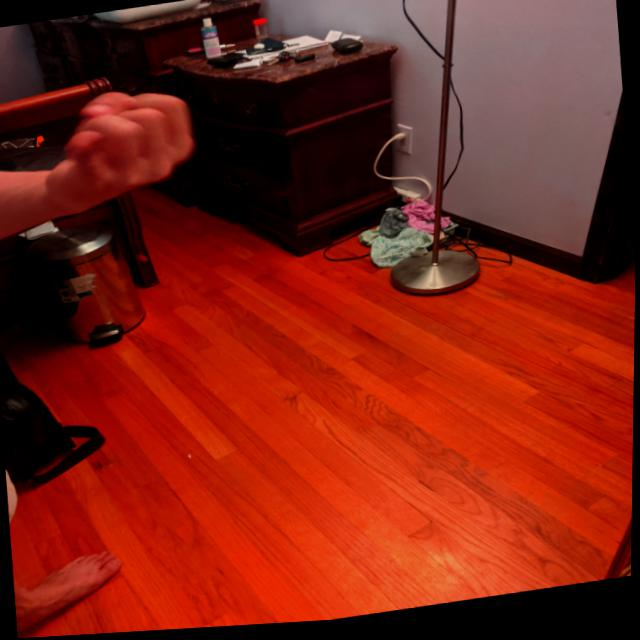J: (36, 75, 211, 218)
